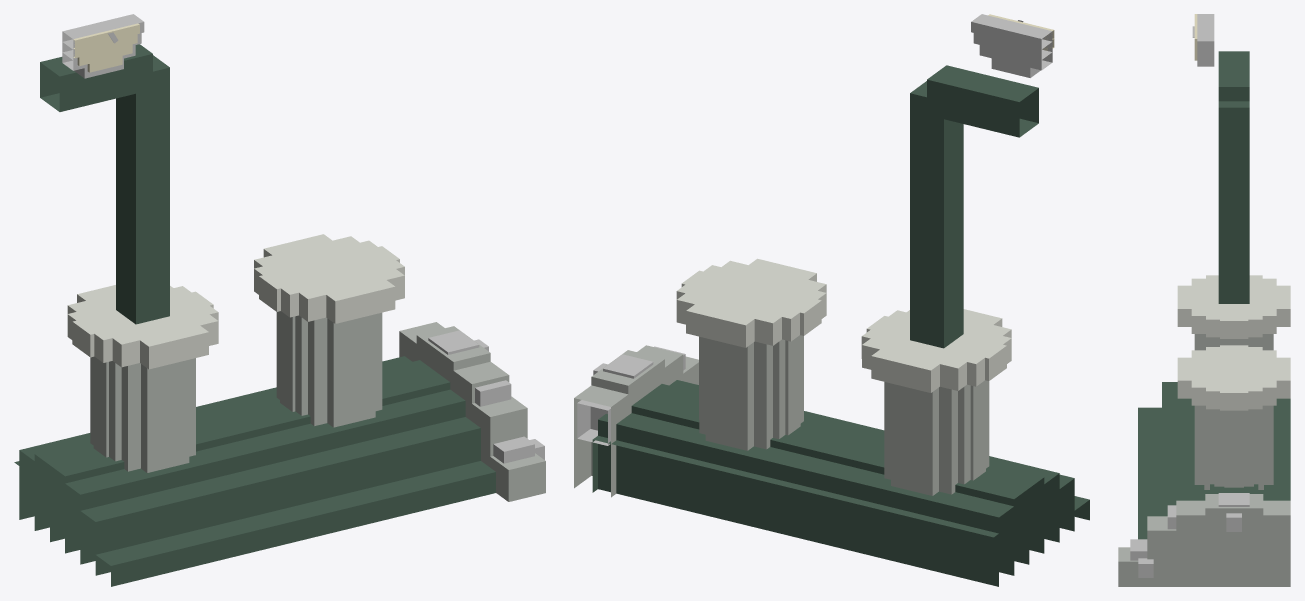
Rendered from cell_23.obj.
3 views of the same model, side by side, from view 1: azimuth 30°, elevation 25°; view 2: azimuth 150°, elevation 25°; view 3: azimuth 270°, elevation 25° (orthographic). The views are drawn at different scales.
Size of the model in its own units: 0.8734 by 1 by 0.3812.
